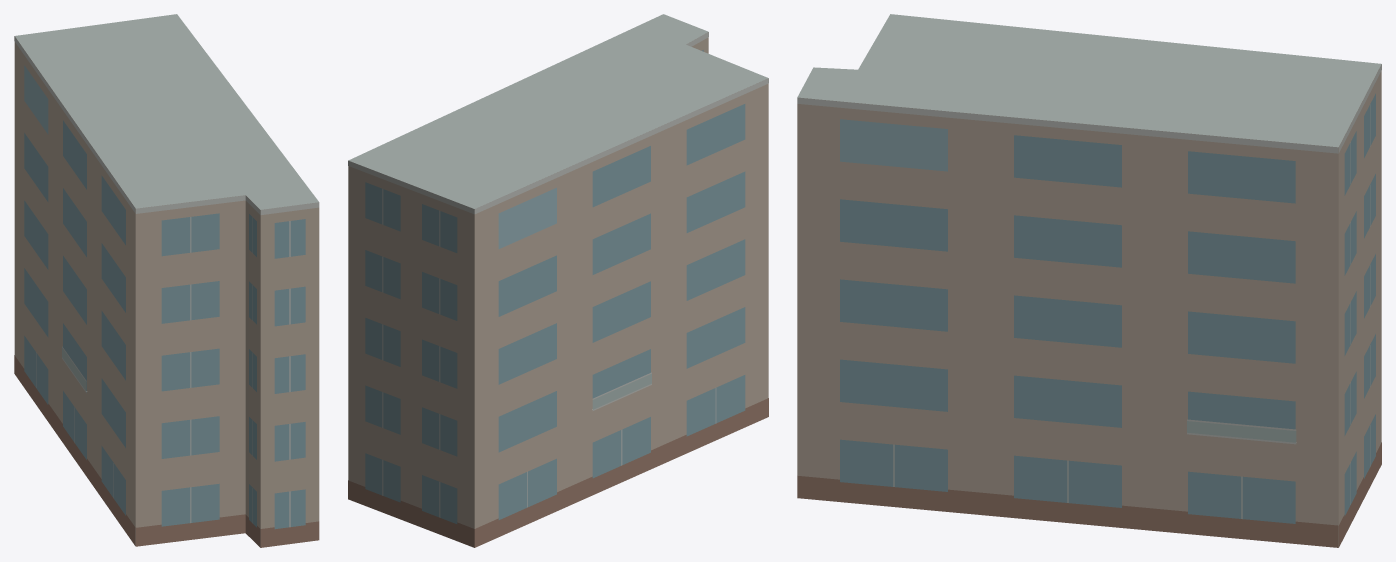
The model's file is survey-upis-32535506.glb.
3 renders of one model, left to right at view 1: azimuth 30°, elevation 25°; view 2: azimuth 150°, elevation 25°; view 3: azimuth 270°, elevation 25°, orthographic. The views are drawn at different scales.
Visible parts, largest first — view 1: survey-upis-32535506.tmp; view 2: survey-upis-32535506.tmp; view 3: survey-upis-32535506.tmp.
Part boxes in pixels (<box>): survey-upis-32535506.tmp: <box>14,14,319,547</box>; survey-upis-32535506.tmp: <box>348,14,768,547</box>; survey-upis-32535506.tmp: <box>797,14,1381,547</box>.
Size of the model in its own units: 11.06 by 15.49 by 20.49.
